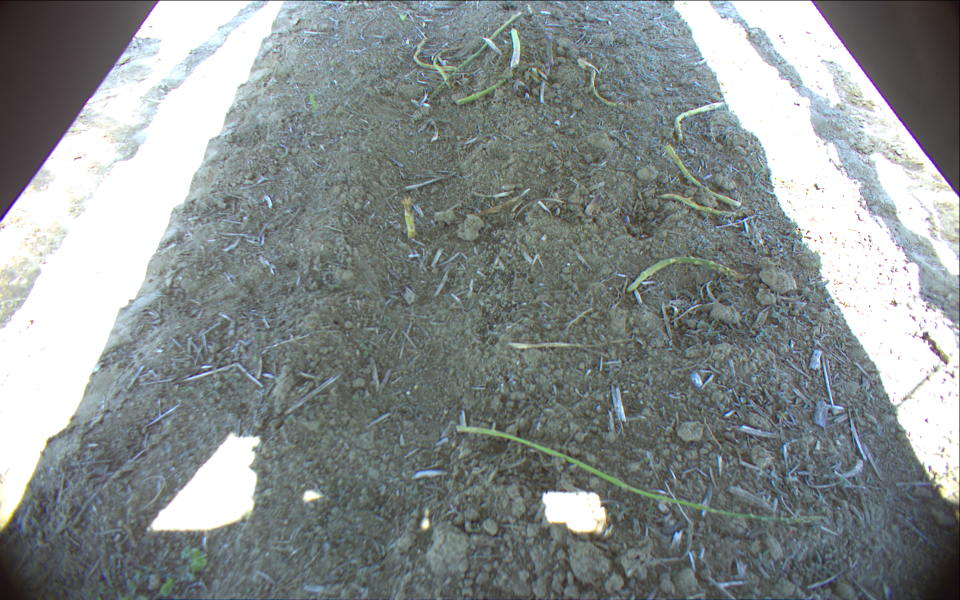aspa: (454, 425, 830, 527), (423, 12, 523, 103), (628, 254, 753, 292), (668, 147, 744, 206), (673, 101, 725, 145), (661, 194, 746, 218), (412, 35, 459, 72), (588, 66, 625, 110), (455, 79, 505, 106), (430, 44, 463, 81), (403, 197, 417, 239), (542, 31, 555, 71), (510, 27, 521, 68)
